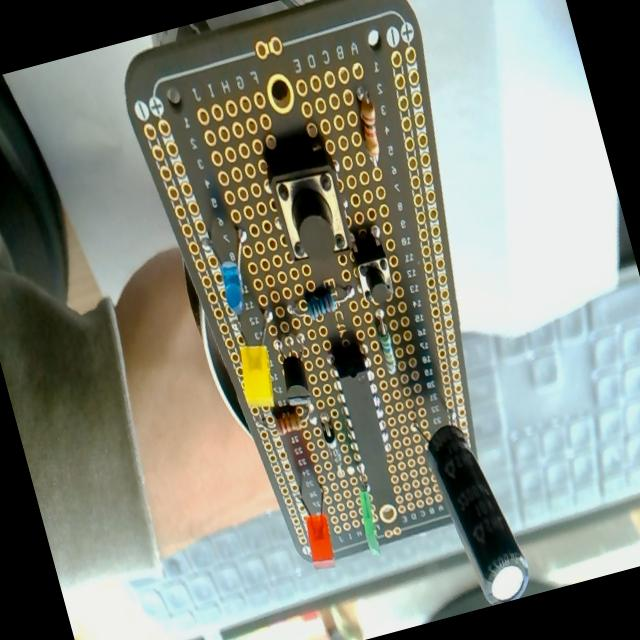Electrolytic capacitor: (410, 374, 524, 612)
IC: (325, 347, 394, 467)
diode: (314, 395, 353, 479)
led: (222, 301, 294, 409), (290, 474, 346, 574), (202, 231, 268, 312), (348, 469, 388, 559)
resistor: (343, 86, 402, 188), (278, 277, 360, 326), (368, 304, 408, 384), (253, 400, 320, 444)
switch: (258, 147, 359, 279), (346, 230, 404, 312)
transistor: (270, 332, 330, 419)
